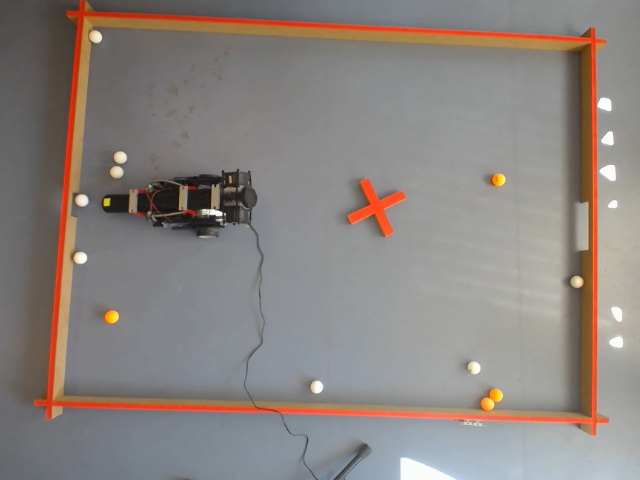orange: (101, 309, 122, 327), (490, 171, 508, 189), (479, 395, 497, 411), (488, 387, 504, 403)
robot: (123, 168, 257, 241)
white: (73, 192, 90, 209), (568, 274, 586, 290), (597, 95, 613, 113), (71, 251, 90, 266), (603, 163, 617, 183), (308, 379, 325, 395), (607, 335, 625, 349), (466, 360, 482, 375), (112, 150, 128, 165), (109, 164, 124, 179), (603, 129, 615, 147), (611, 305, 623, 322), (89, 28, 101, 43), (607, 199, 620, 210)
